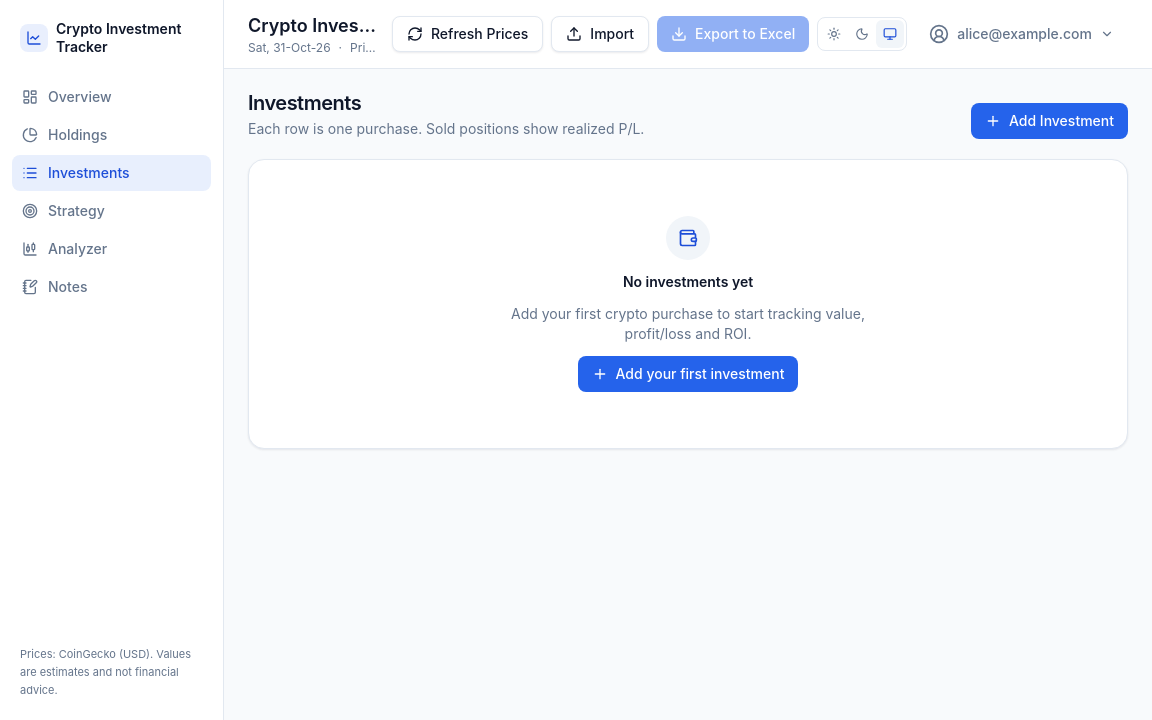
Test: Dashboard › validates required fields and positive numbers
Click the button "Add your first investment".
click(688, 374)  # box [578, 356, 798, 392]
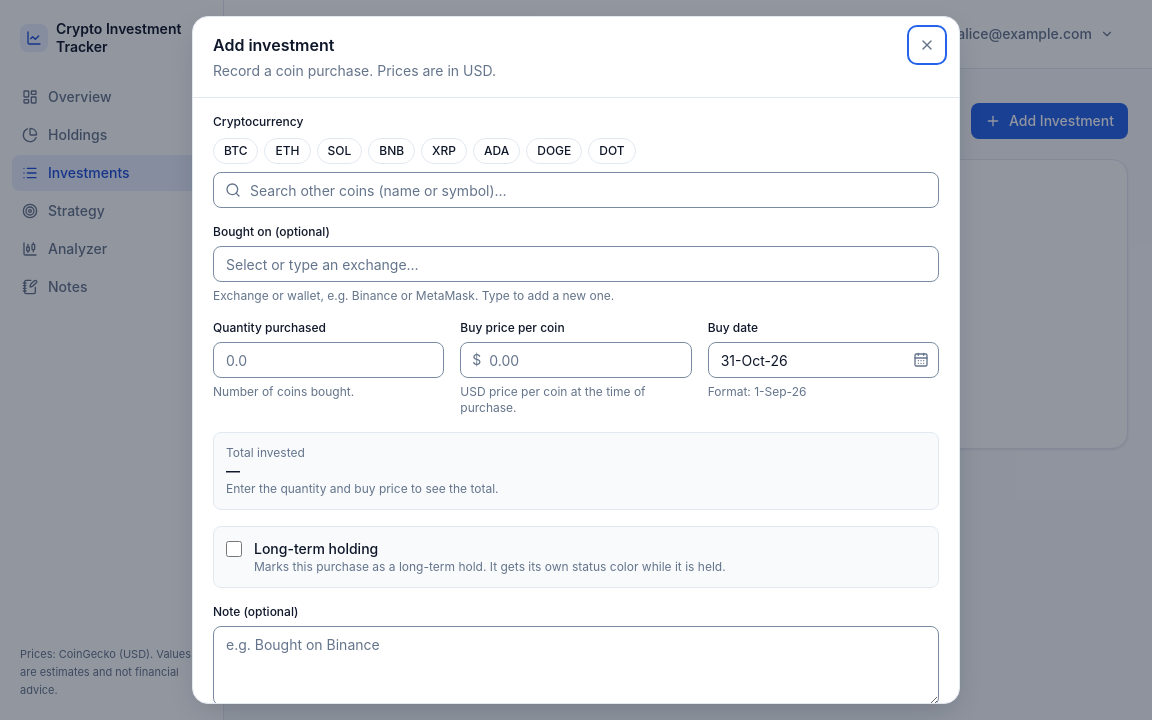
Type "0" into the field labelled "Buy price per coin".
click(576, 360); type("0")  # box [460, 342, 692, 378]
(page scrolled)
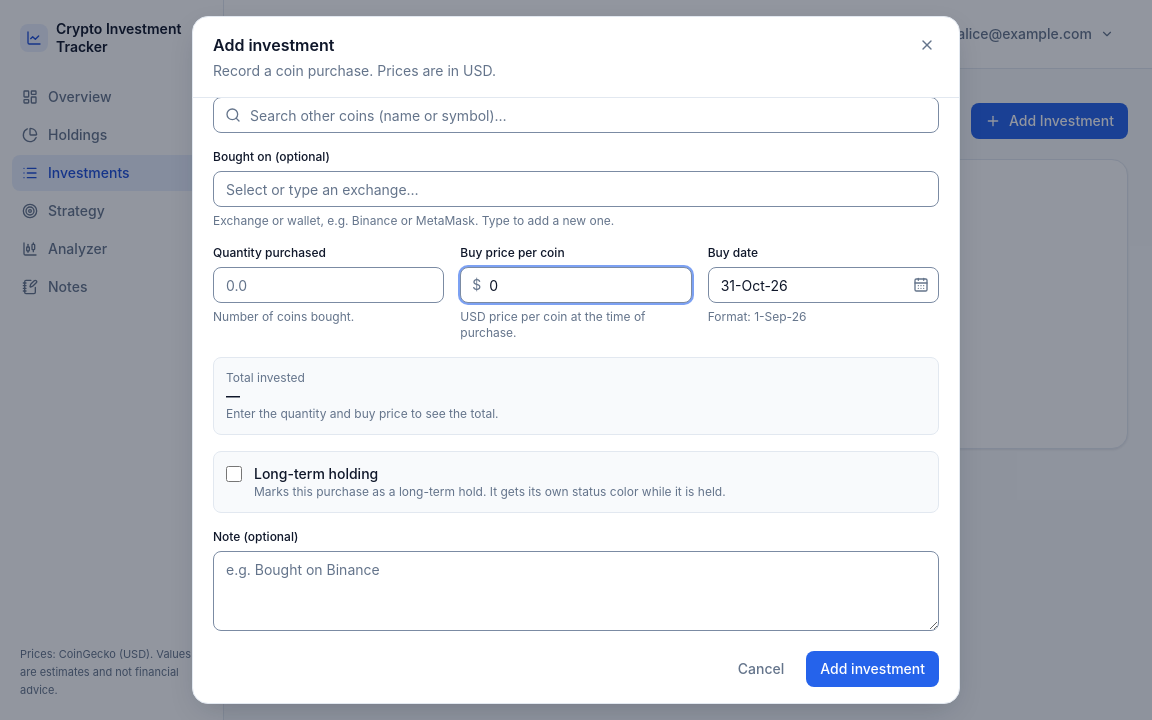
Click the button "Add investment".
click(873, 669)  # box [806, 651, 939, 687]
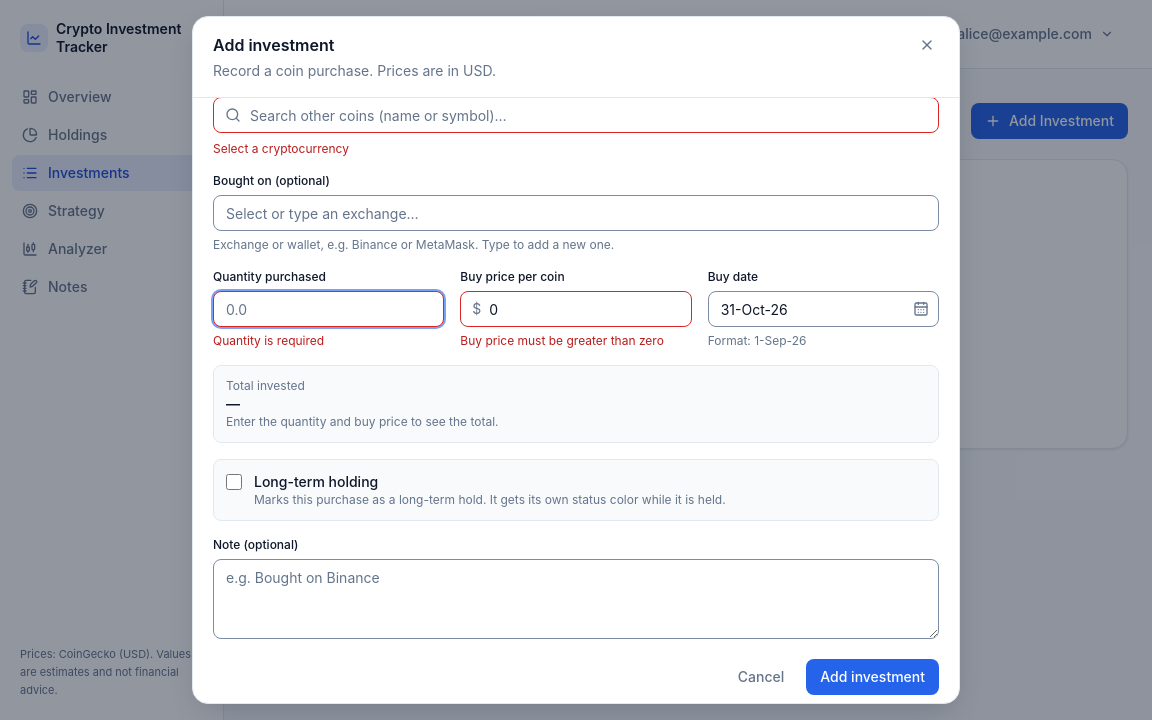
Expected: the text "Select a cryptocurrency" is shown, [213, 141, 349, 156]
Expected: the text "Buy price must be greater than zero" is shown, [460, 333, 692, 349]
Expected: the text "Quantity is required" is shown, [213, 333, 324, 348]
